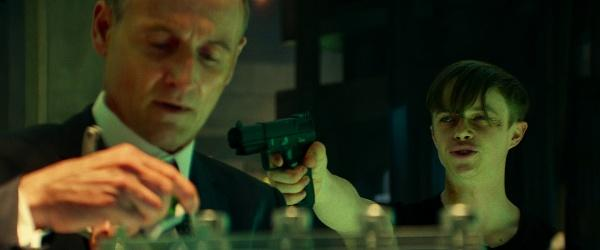Gun: (227, 112, 319, 209)
